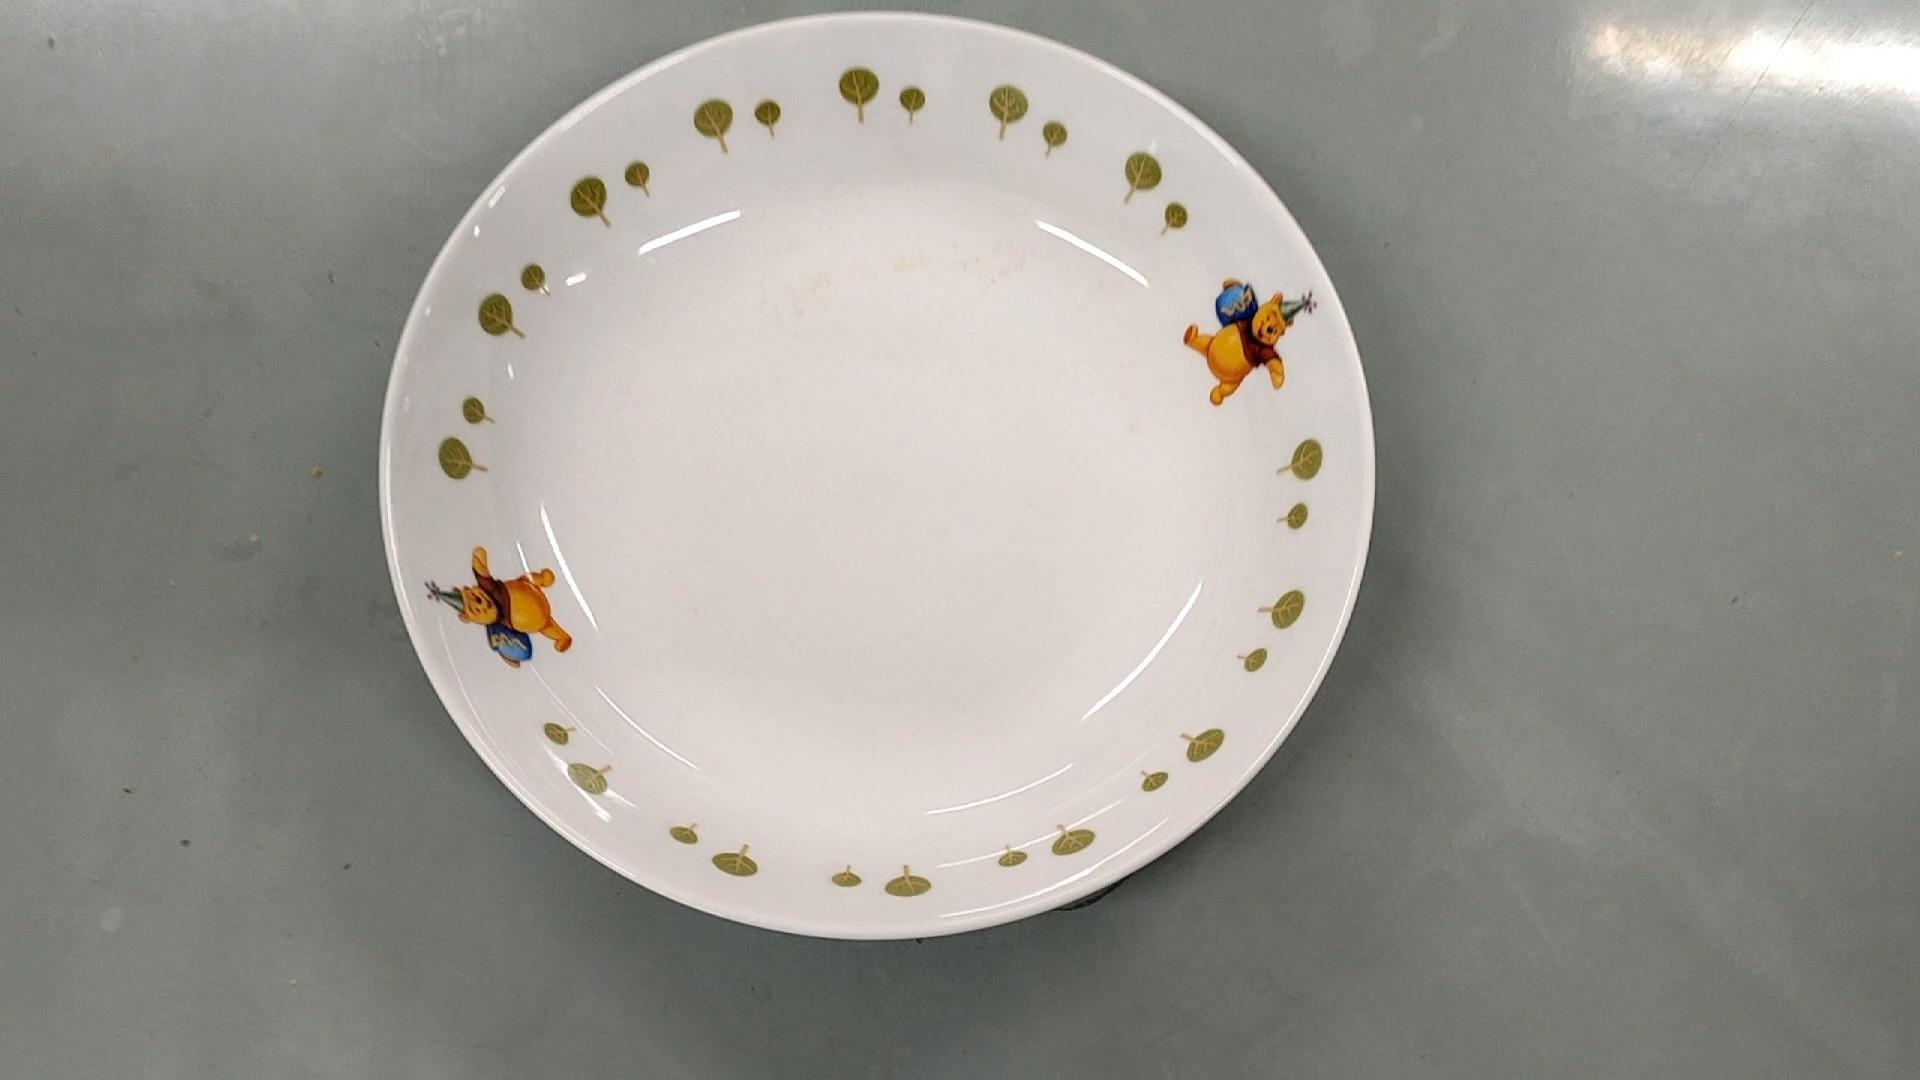plate: (378, 18, 1375, 945)
